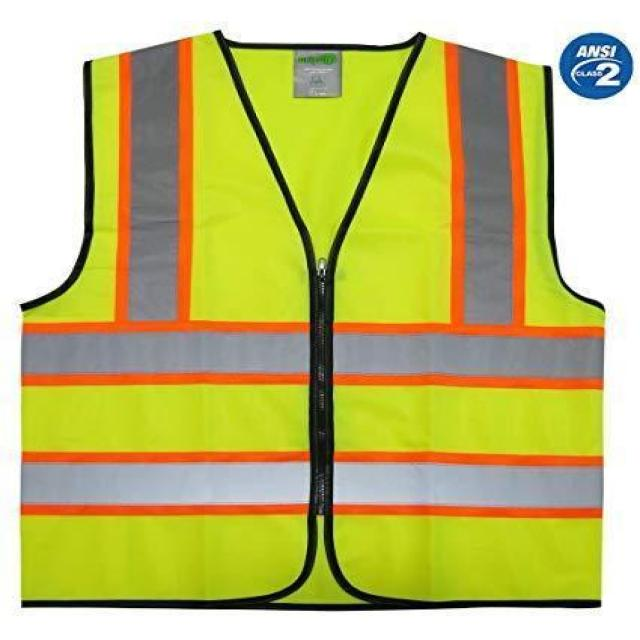Vest: (14, 31, 608, 614)
